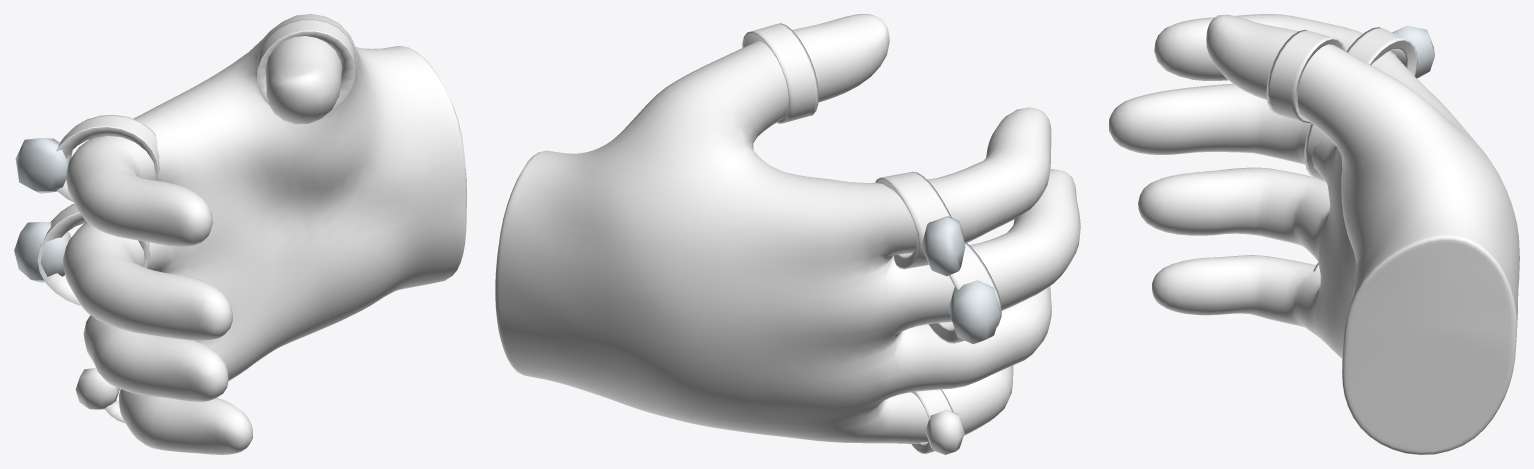
The model's file is HandFortune.fbx.
3 renders of one model, left to right at view 1: azimuth 30°, elevation 25°; view 2: azimuth 150°, elevation 25°; view 3: azimuth 270°, elevation 25°, orthographic.
Visible parts, largest first — view 1: Hand02; view 2: Hand02; view 3: Hand02.
Part boxes in pixels (x1=…): Hand02: x1=14, y1=14, x2=466, y2=454; Hand02: x1=495, y1=14, x2=1080, y2=454; Hand02: x1=1109, y1=14, x2=1519, y2=454.
Size of the model in its own units: 483 by 391 by 399.
